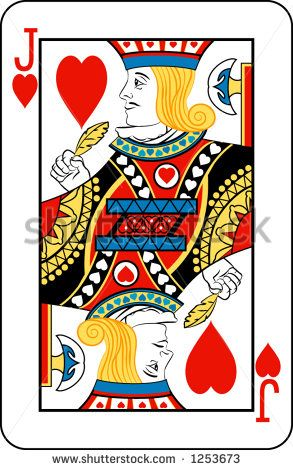jack of hearts: (4, 1, 293, 451)
